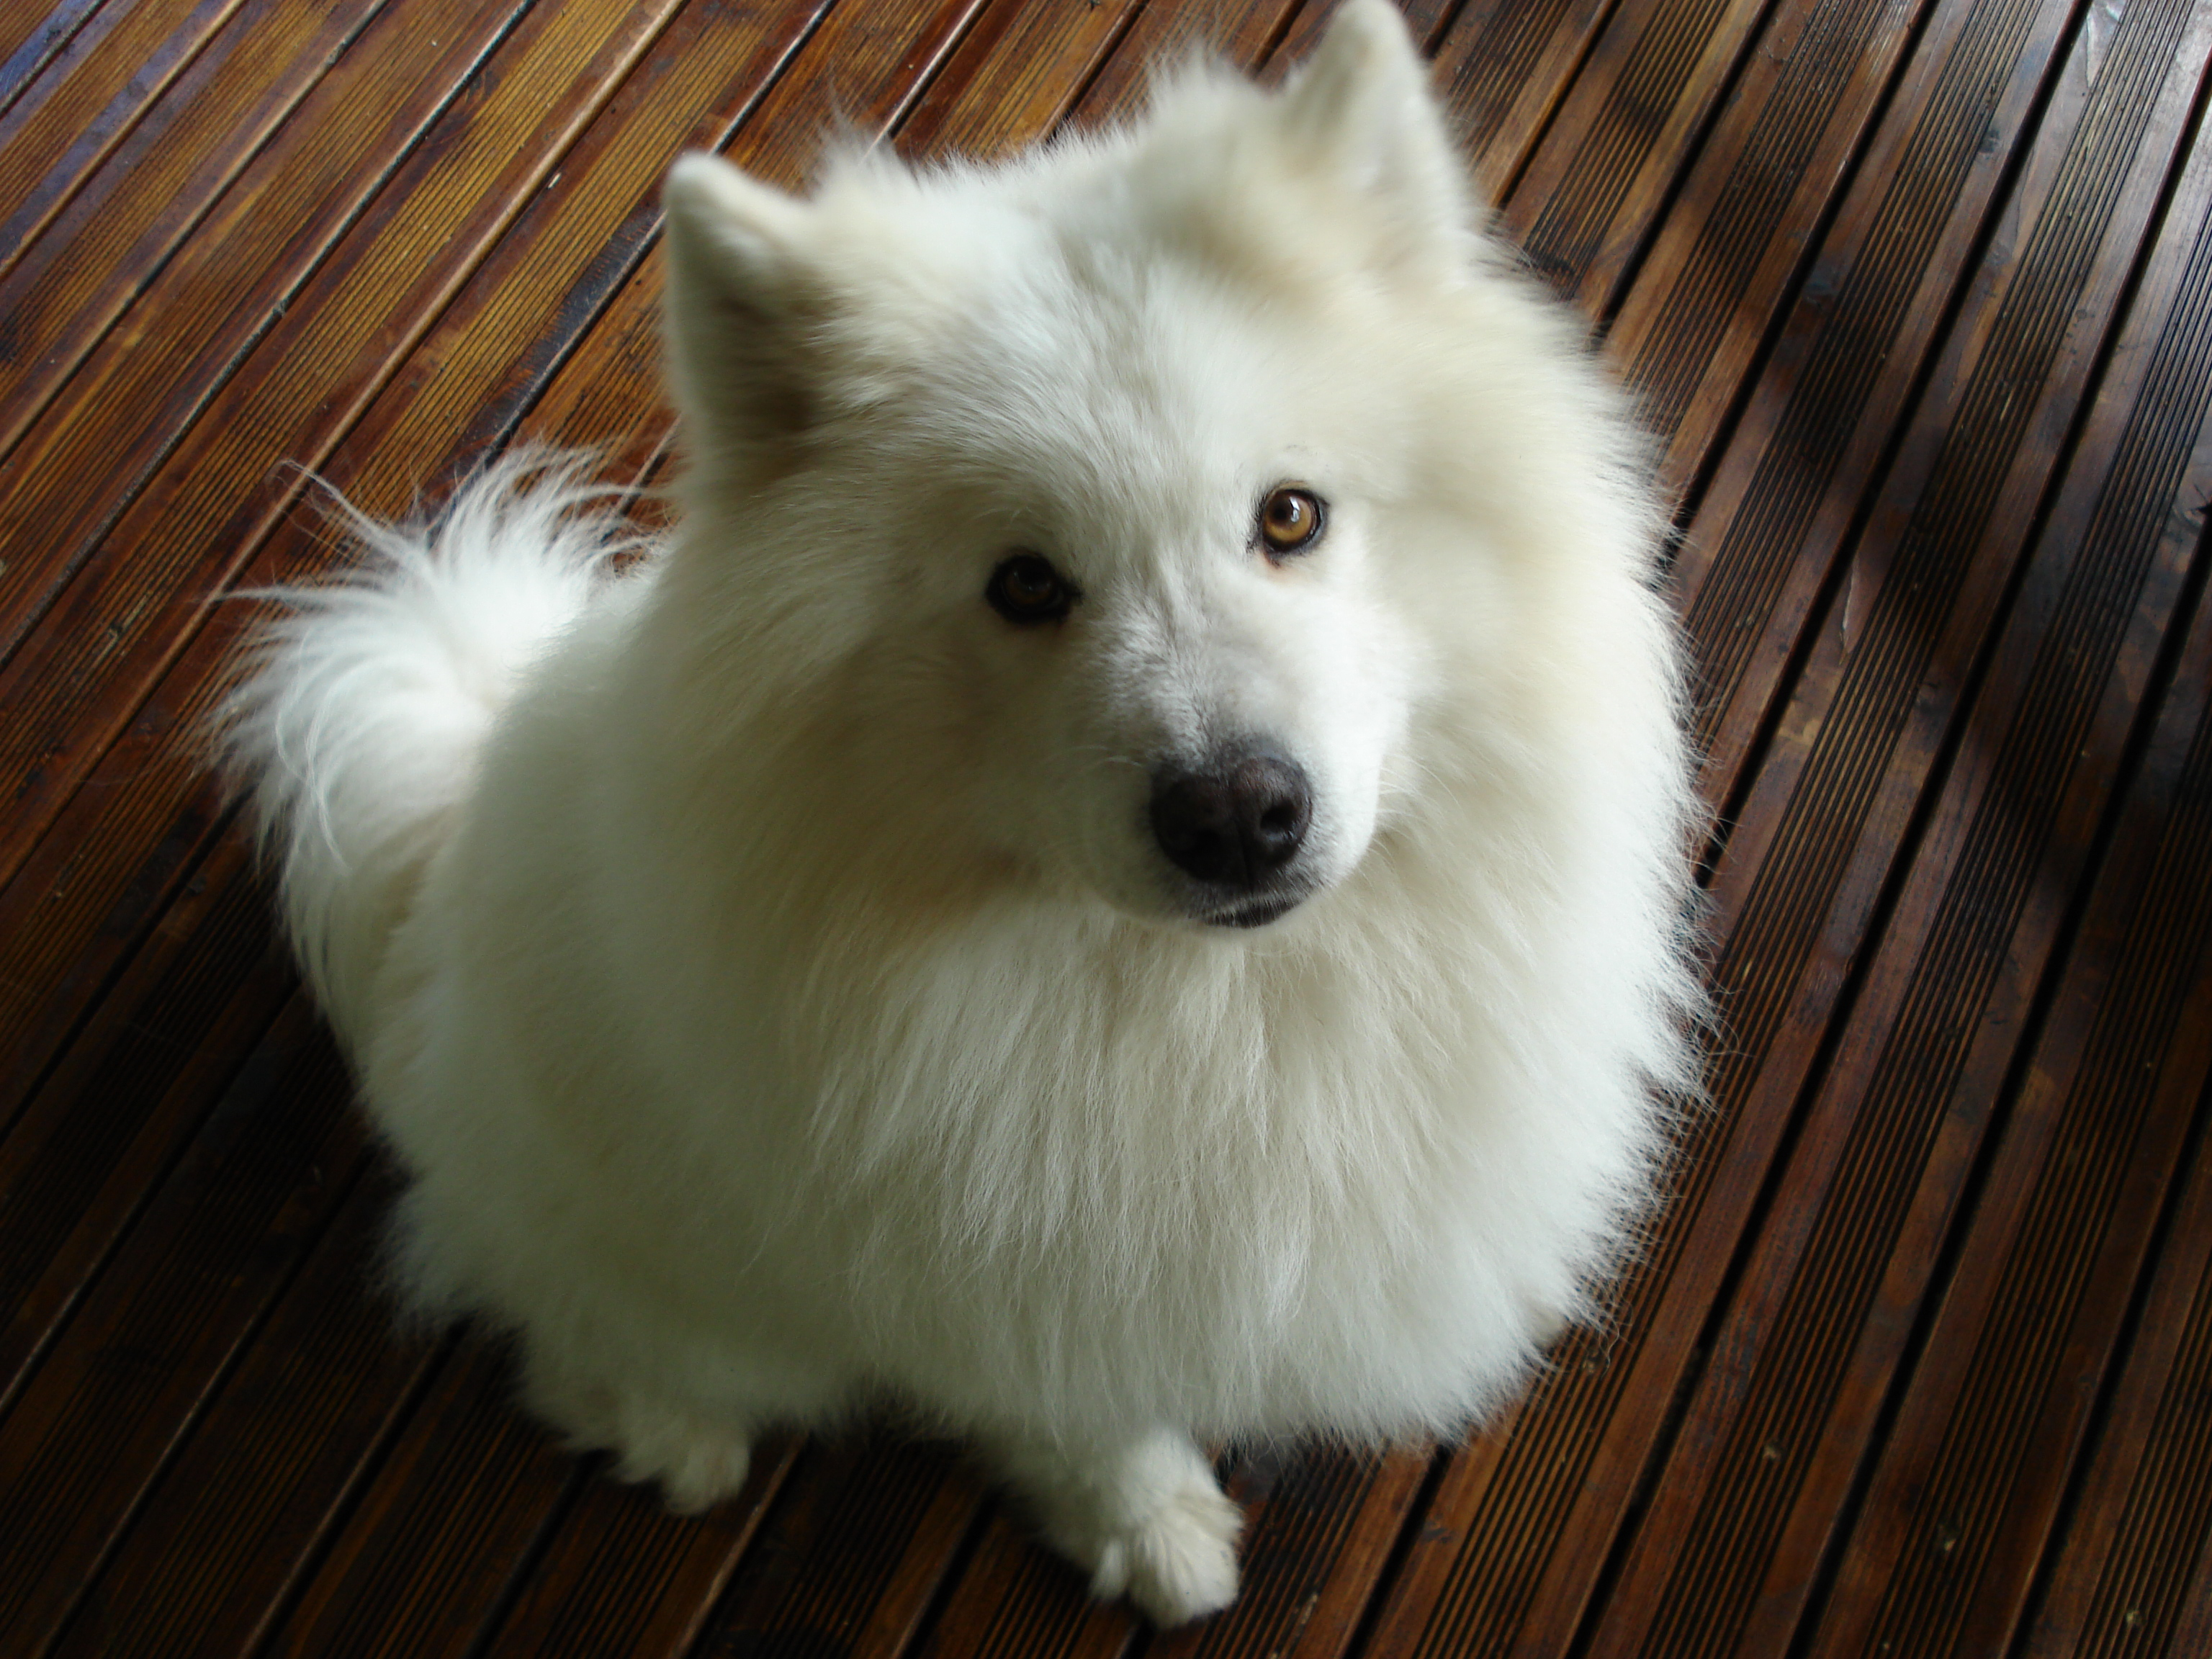dog: (186, 20, 1778, 1610)
